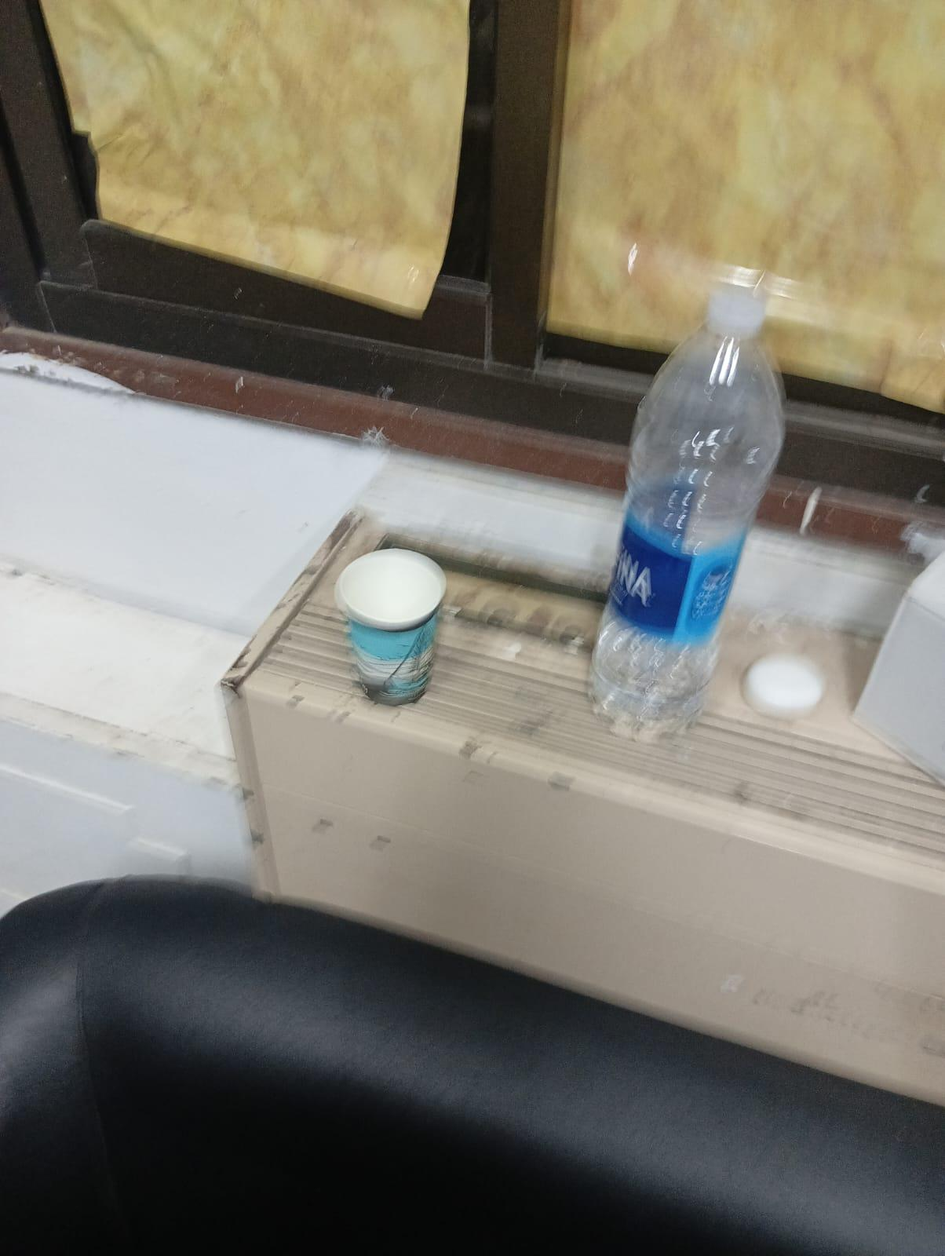cup: (335, 549, 445, 705), (345, 554, 438, 620)
